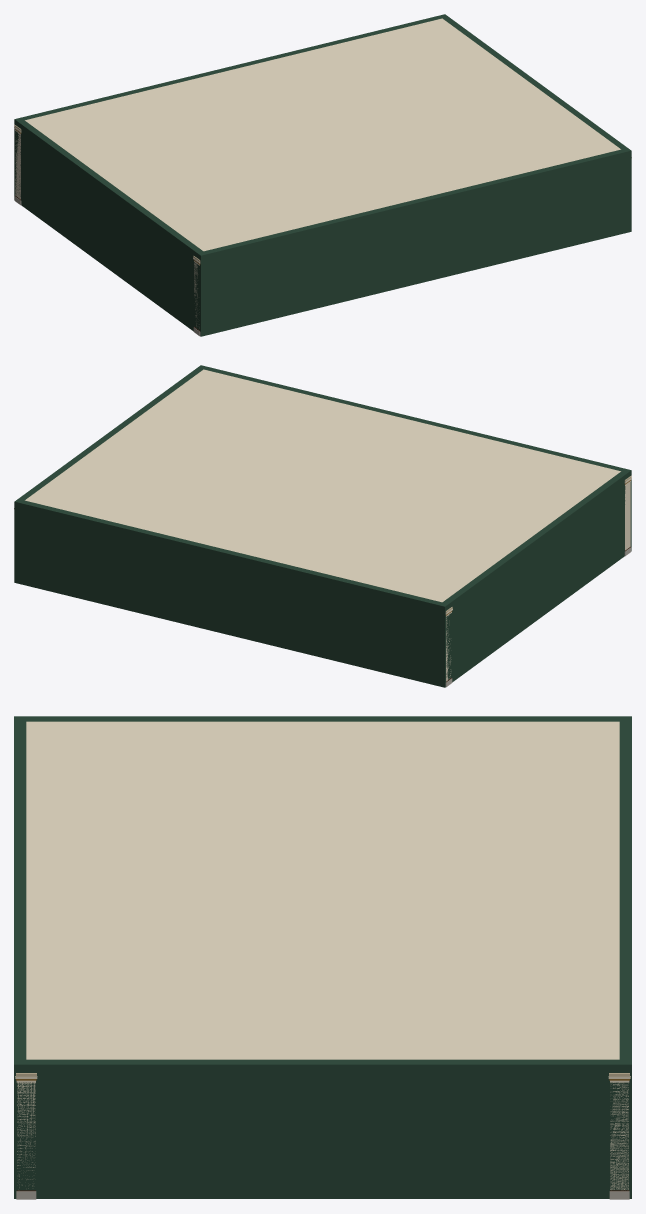
The model's file is zh-hall.glb.
3 renders of one model, top to bottom at view 1: azimuth 30°, elevation 25°; view 2: azimuth 150°, elevation 25°; view 3: azimuth 270°, elevation 25°, orthographic. The views are drawn at different scales.
Parts seen in each view (by area): view 1: zh-hall; view 2: zh-hall; view 3: zh-hall.
Part boxes in pixels (left/top/right/bottom): zh-hall: left=14, top=14, right=631, bottom=336; zh-hall: left=14, top=365, right=631, bottom=687; zh-hall: left=14, top=716, right=631, bottom=1199.
Size of the model in its own units: 40.16 by 7.3 by 30.
